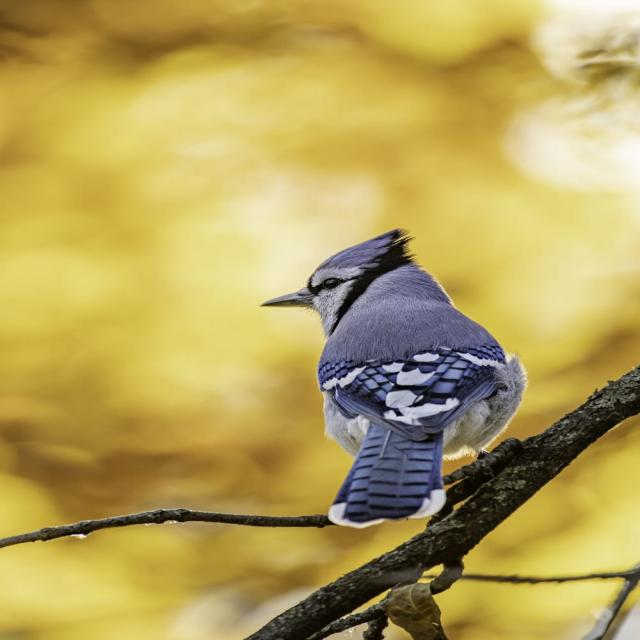Birds: (247, 212, 528, 496)
